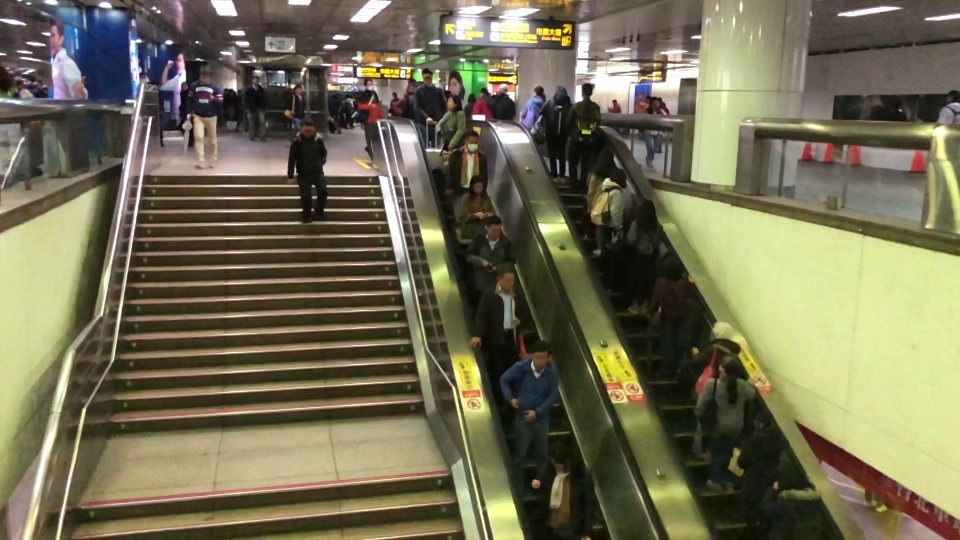person_head: (530, 342, 552, 368), (496, 262, 516, 289), (552, 448, 574, 472), (661, 256, 682, 278), (712, 322, 735, 340), (718, 355, 739, 374), (785, 468, 804, 488), (485, 215, 502, 236), (464, 130, 480, 151), (638, 199, 654, 220), (752, 413, 770, 430), (470, 175, 486, 194), (0, 67, 13, 90), (612, 168, 627, 186), (598, 146, 613, 163), (448, 94, 462, 111), (200, 65, 212, 84), (580, 82, 593, 99), (301, 121, 314, 136), (945, 89, 958, 103), (421, 69, 433, 84), (554, 84, 568, 95), (533, 84, 543, 96), (406, 83, 416, 94), (498, 83, 508, 94), (651, 98, 660, 110), (294, 84, 303, 95), (364, 78, 372, 90), (468, 92, 476, 102), (480, 86, 488, 96), (140, 72, 146, 84), (251, 76, 259, 85), (181, 82, 189, 89), (613, 99, 617, 105), (645, 96, 650, 100)
person_vbox: (695, 355, 756, 495), (499, 341, 560, 477), (682, 321, 735, 457), (469, 262, 531, 365), (647, 255, 697, 379), (531, 448, 594, 540), (737, 412, 775, 534), (763, 466, 823, 540), (286, 121, 328, 225), (626, 199, 662, 317), (465, 216, 517, 296), (185, 65, 224, 171), (566, 82, 600, 192), (444, 129, 488, 202), (585, 144, 613, 257), (540, 84, 571, 183), (591, 167, 629, 242), (457, 175, 494, 246), (413, 67, 447, 123), (242, 75, 269, 142), (359, 80, 381, 156), (437, 94, 465, 148), (643, 98, 662, 165), (520, 84, 544, 130), (180, 82, 194, 148), (288, 85, 306, 135), (935, 88, 960, 124), (493, 83, 516, 120), (0, 66, 20, 97), (474, 87, 490, 117), (463, 92, 477, 116), (634, 95, 649, 114), (606, 97, 620, 112)
